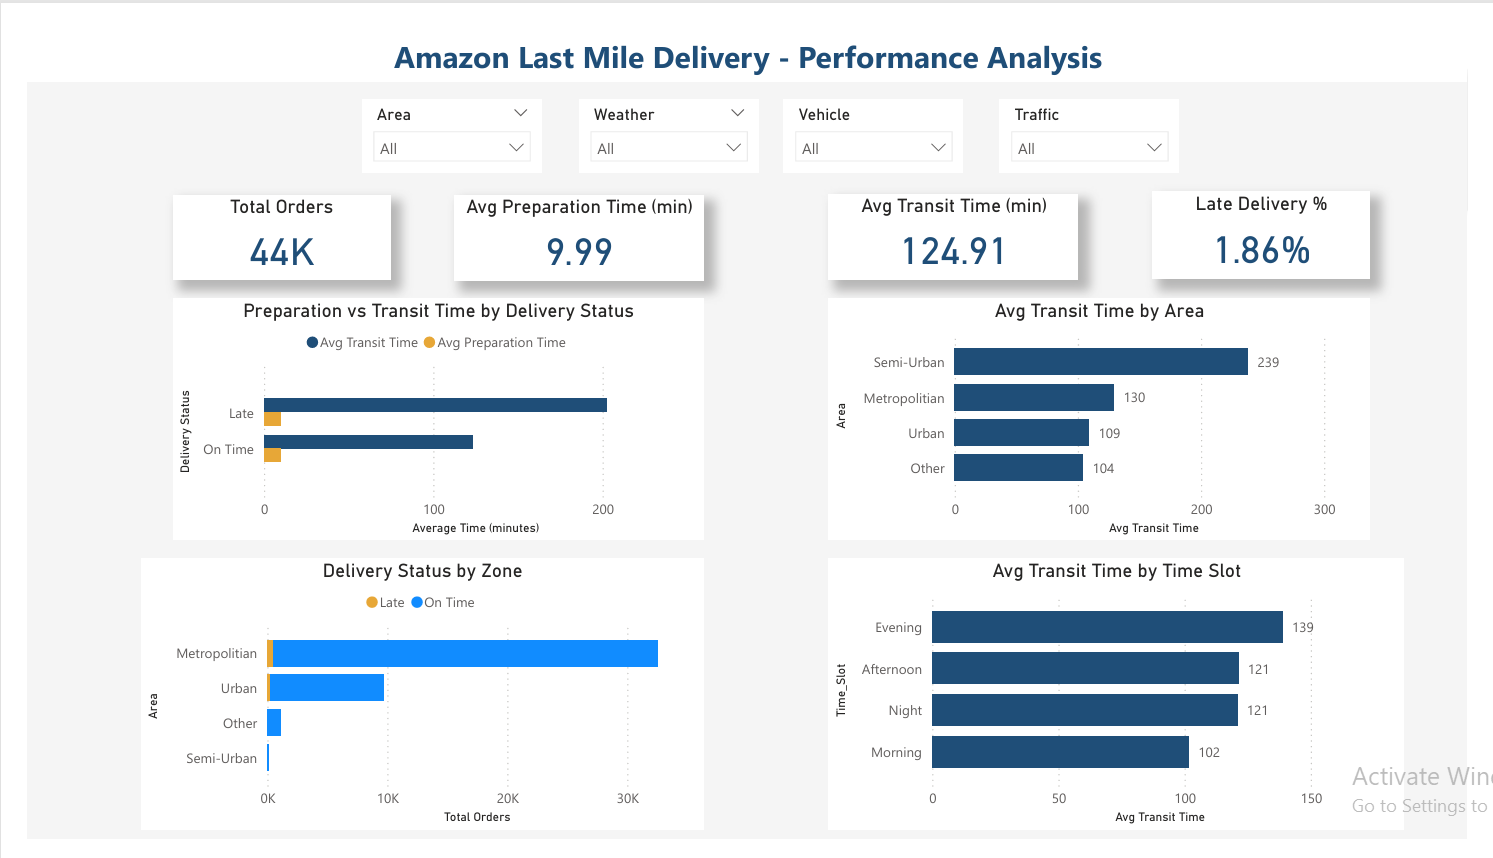

The page's visual inventory and layout, read from the dashboard file:
{"tool":"powerbi","page":{"name":"Executive Summary","canvas":[1280,720],"ordinal":0},"visuals":[{"type":"textbox","box":[0,0,1280,46.7],"z":0},{"type":"card","title":"Total Orders","fields":{"Values":["deliveries.Total Orders"]},"box":[128.9,146.7,193.3,75.6],"z":1000},{"type":"card","title":"Avg Preparation Time (min)","fields":{"Values":["deliveries.Avg Preparation Time"]},"box":[378.9,146.7,222.2,76.7],"z":2000},{"type":"card","title":"Avg Transit Time (min)","fields":{"Values":["deliveries.Avg Transit Time"]},"box":[712.2,145.6,222.2,76.7],"z":3000},{"type":"card","title":"Late Delivery %","fields":{"Values":["deliveries.Late Delivery %"]},"box":[1000,144.4,193.3,77.8],"z":4000},{"type":"clusteredBarChart","title":"Preparation vs Transit Time by Delivery Status","fields":{"Category":["deliveries.Late_Delivery_Flag"],"Y":["deliveries.Avg Transit Time","deliveries.Avg Preparation Time"]},"box":[128.9,238.9,472.2,215.6],"z":5000},{"type":"clusteredBarChart","fields":{"Category":["deliveries.Area"],"Y":["deliveries.Avg Transit Time"]},"box":[712.2,238.9,481.1,215.6],"z":6000},{"type":"barChart","title":"Delivery Status by Zone","fields":{"Category":["deliveries.Area"],"Y":["deliveries.Total Orders"],"Series":["deliveries.Late_Delivery_Flag"]},"box":[101.1,470,500,241.1],"z":7000},{"type":"slicer","fields":{"Values":["deliveries.Area"]},"box":[296.7,62.2,160,64.4],"z":8000},{"type":"clusteredBarChart","title":"Avg Transit Time by Time Slot","fields":{"Y":["deliveries.Avg Transit Time"],"Category":["deliveries.Time_Slot"]},"box":[712.2,470,512.2,241.1],"z":8001},{"type":"slicer","fields":{"Values":["deliveries.Weather"]},"box":[490,62.2,160,64.4],"z":8002},{"type":"slicer","fields":{"Values":["deliveries.Traffic"]},"box":[864.4,62.2,160,64.4],"z":8003},{"type":"slicer","fields":{"Values":["deliveries.Vehicle"]},"box":[672.2,62.2,160,64.4],"z":8004}]}

Visuals, with their boxes in screenshot pixels (x1, y1, x2, y2), scaled from the page's 1280x720 canvas onto the 1493x858 screenshot:
textbox: 0:0:1492:56
"Total Orders" card: 150:175:376:265
"Avg Preparation Time (min)" card: 442:175:701:266
"Avg Transit Time (min)" card: 831:174:1090:265
"Late Delivery %" card: 1166:172:1392:265
"Preparation vs Transit Time by Delivery Status" clusteredBarChart: 150:285:701:542
clusteredBarChart - deliveries.Area x deliveries.Avg Transit Time: 831:285:1392:542
"Delivery Status by Zone" barChart: 118:560:701:847
slicer - deliveries.Area: 346:74:533:151
"Avg Transit Time by Time Slot" clusteredBarChart: 831:560:1428:847
slicer - deliveries.Weather: 572:74:758:151
slicer - deliveries.Traffic: 1008:74:1195:151
slicer - deliveries.Vehicle: 784:74:971:151
